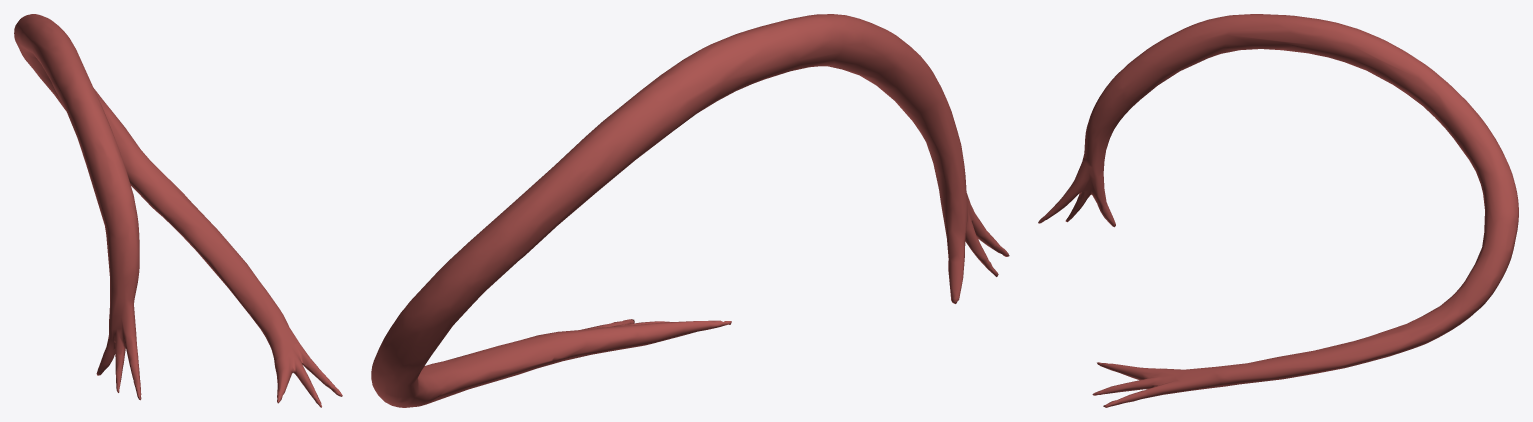
Rendered from FMA72940.glb.
3 views of the same model, side by side, from view 1: azimuth 30°, elevation 25°; view 2: azimuth 150°, elevation 25°; view 3: azimuth 270°, elevation 25° (orthographic). The views are drawn at different scales.
Parts seen in each view (by area): view 1: FMA72940; view 2: FMA72940; view 3: FMA72940.
Boxes of the visible parts, x1,y1,x2,y2 form: FMA72940: [14, 14, 342, 407]; FMA72940: [371, 14, 1009, 407]; FMA72940: [1038, 14, 1518, 407].
Bounding box in the file's own units: 0.0242 × 0.0289 × 0.041.
